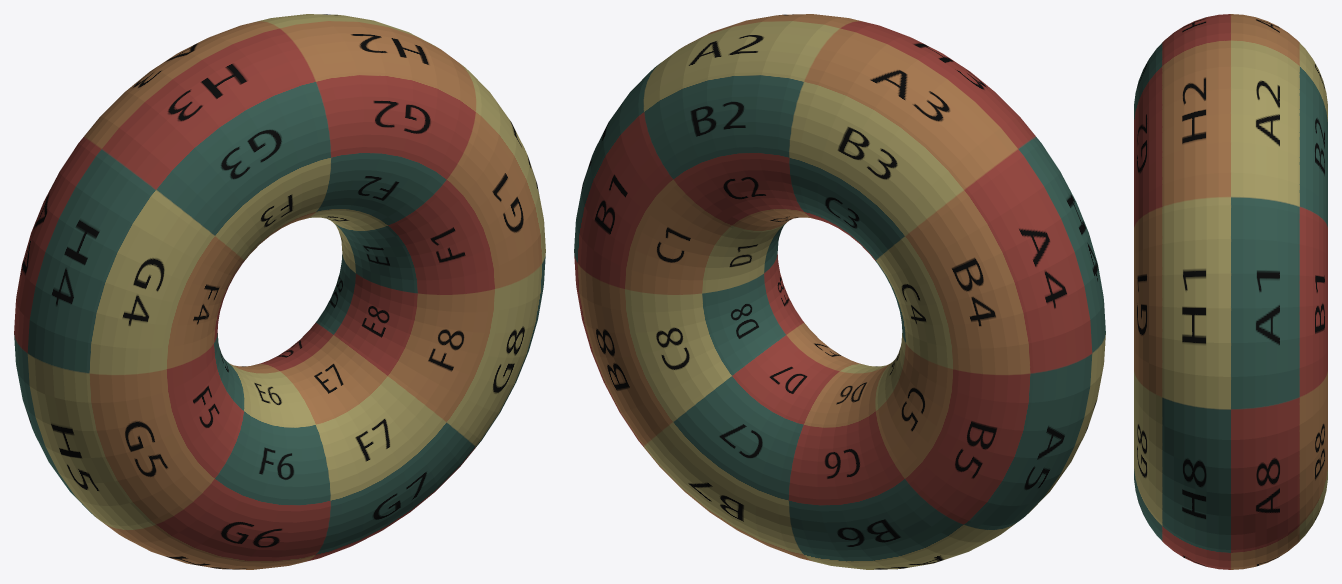
File: texture_torus_R1_r14.glb
3 renders of one model, left to right at view 1: azimuth 30°, elevation 25°; view 2: azimuth 150°, elevation 25°; view 3: azimuth 270°, elevation 25°, orthographic. The views are drawn at different scales.
Parts seen in each view (by area): view 1: world; view 2: world; view 3: world.
Boxes of the visible parts, <box> form: world: <box>14,14,545,569</box>; world: <box>574,14,1105,569</box>; world: <box>1134,14,1327,569</box>.
Bounding box in the file's own units: 16.4 × 16.37 × 5.72.
Materials: 1 (1 with a texture image).
